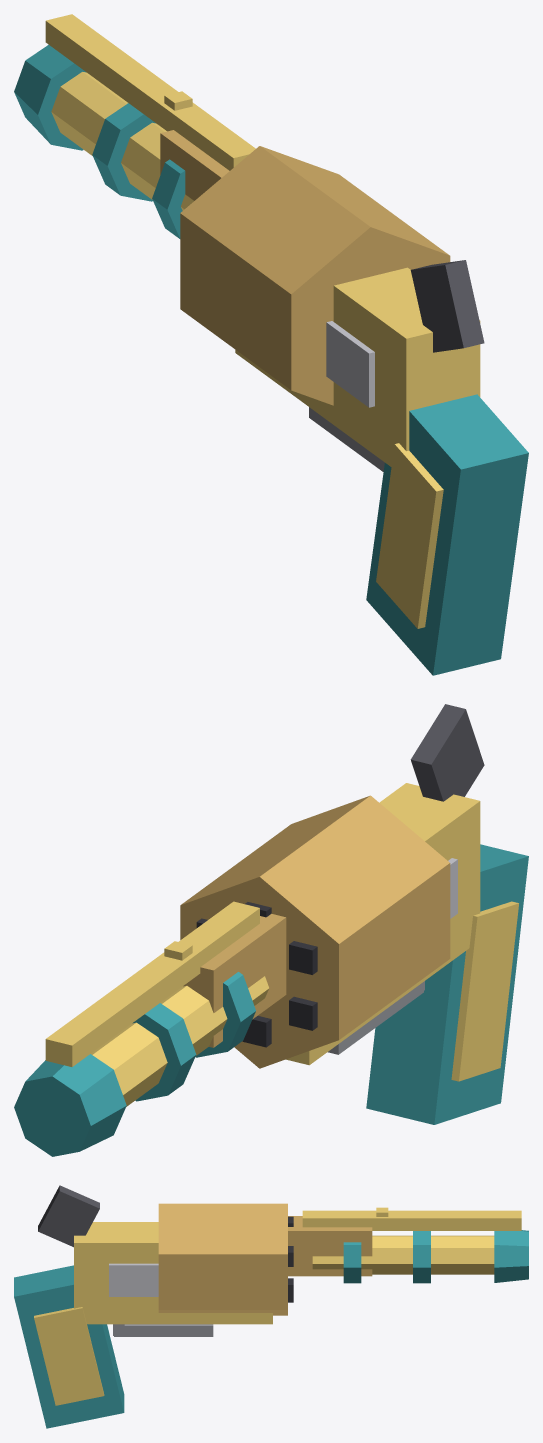
Rendered from pistol_mythic.glb.
3 renders of one model, top to bottom at view 1: azimuth 30°, elevation 25°; view 2: azimuth 150°, elevation 25°; view 3: azimuth 270°, elevation 25°, orthographic. The views are drawn at different scales.
Parts seen in each view (by area): view 1: HandCannon; view 2: HandCannon; view 3: HandCannon.
Part boxes in pixels (bbox=[...]): HandCannon: bbox=[14, 14, 528, 675]; HandCannon: bbox=[14, 704, 528, 1156]; HandCannon: bbox=[14, 1185, 528, 1428].
Bounding box in the file's own units: 0.1074 × 0.2562 × 0.5179.
